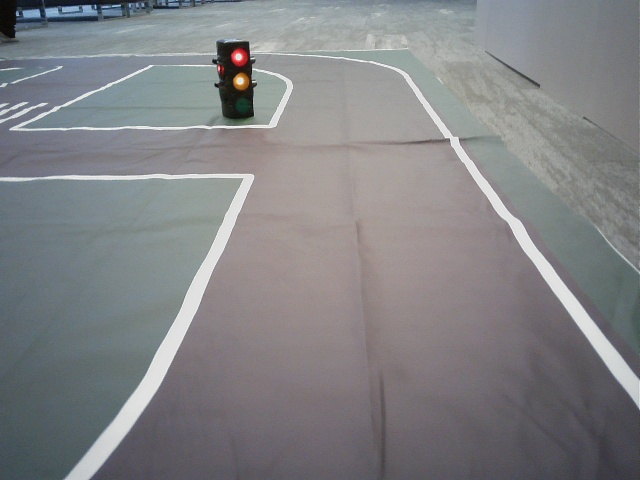red: (222, 45, 252, 116)
